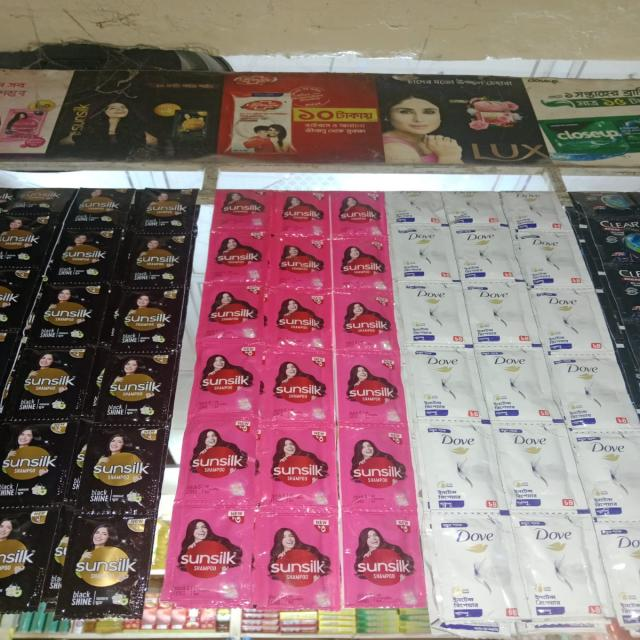ubl: (433, 514, 520, 620), (66, 512, 151, 620), (168, 510, 254, 609), (517, 516, 591, 624), (255, 513, 338, 604), (343, 513, 424, 603), (496, 426, 570, 515), (0, 419, 75, 504), (339, 430, 415, 511), (182, 422, 256, 504), (422, 423, 491, 510), (93, 350, 169, 426), (188, 343, 262, 421), (87, 430, 155, 513), (13, 347, 89, 418), (261, 431, 332, 505), (338, 352, 404, 430), (578, 436, 639, 517), (533, 292, 610, 355), (0, 510, 51, 605), (407, 352, 481, 417), (270, 349, 330, 425), (556, 357, 616, 431), (482, 351, 538, 424), (339, 290, 404, 352), (401, 285, 460, 350), (200, 282, 263, 341), (469, 285, 527, 347), (123, 230, 189, 284), (270, 290, 328, 349), (40, 287, 96, 346), (605, 523, 637, 623), (457, 227, 517, 280), (205, 231, 270, 279), (392, 228, 447, 284), (124, 286, 172, 348), (274, 236, 328, 290), (522, 236, 578, 288), (334, 240, 389, 288), (274, 189, 329, 236), (60, 232, 113, 280), (505, 189, 565, 231), (0, 212, 43, 270), (334, 192, 382, 238), (215, 190, 270, 230), (593, 219, 637, 264), (389, 190, 447, 224), (450, 190, 511, 222), (74, 190, 126, 227), (141, 190, 191, 227), (608, 267, 639, 325), (576, 190, 638, 216)
